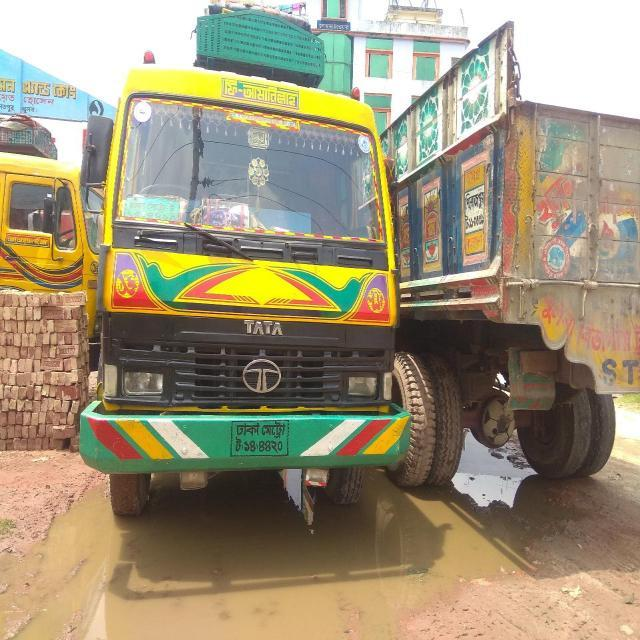numberplate: (229, 419, 289, 456)
